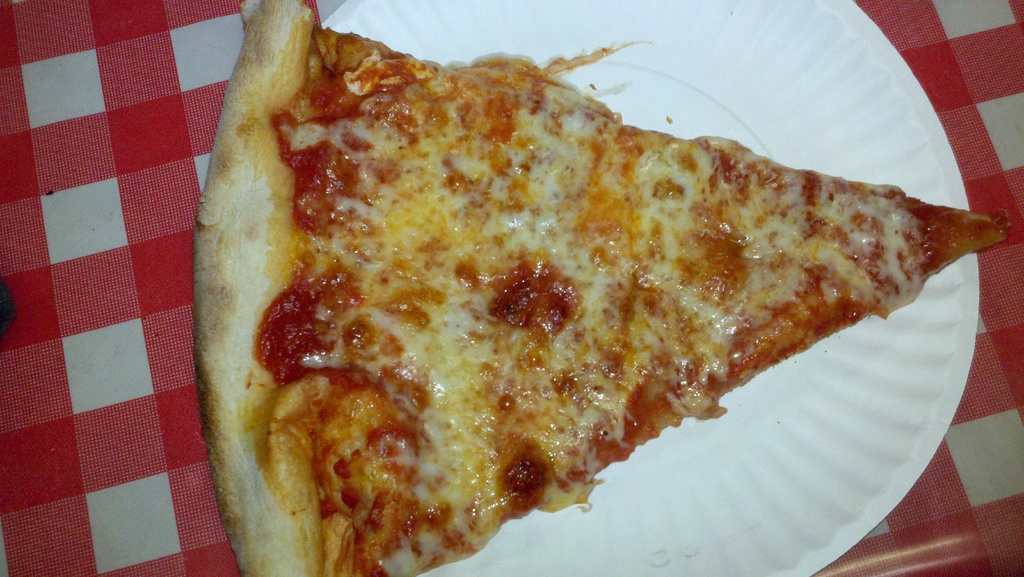Pizza: (145, 17, 1024, 554)
